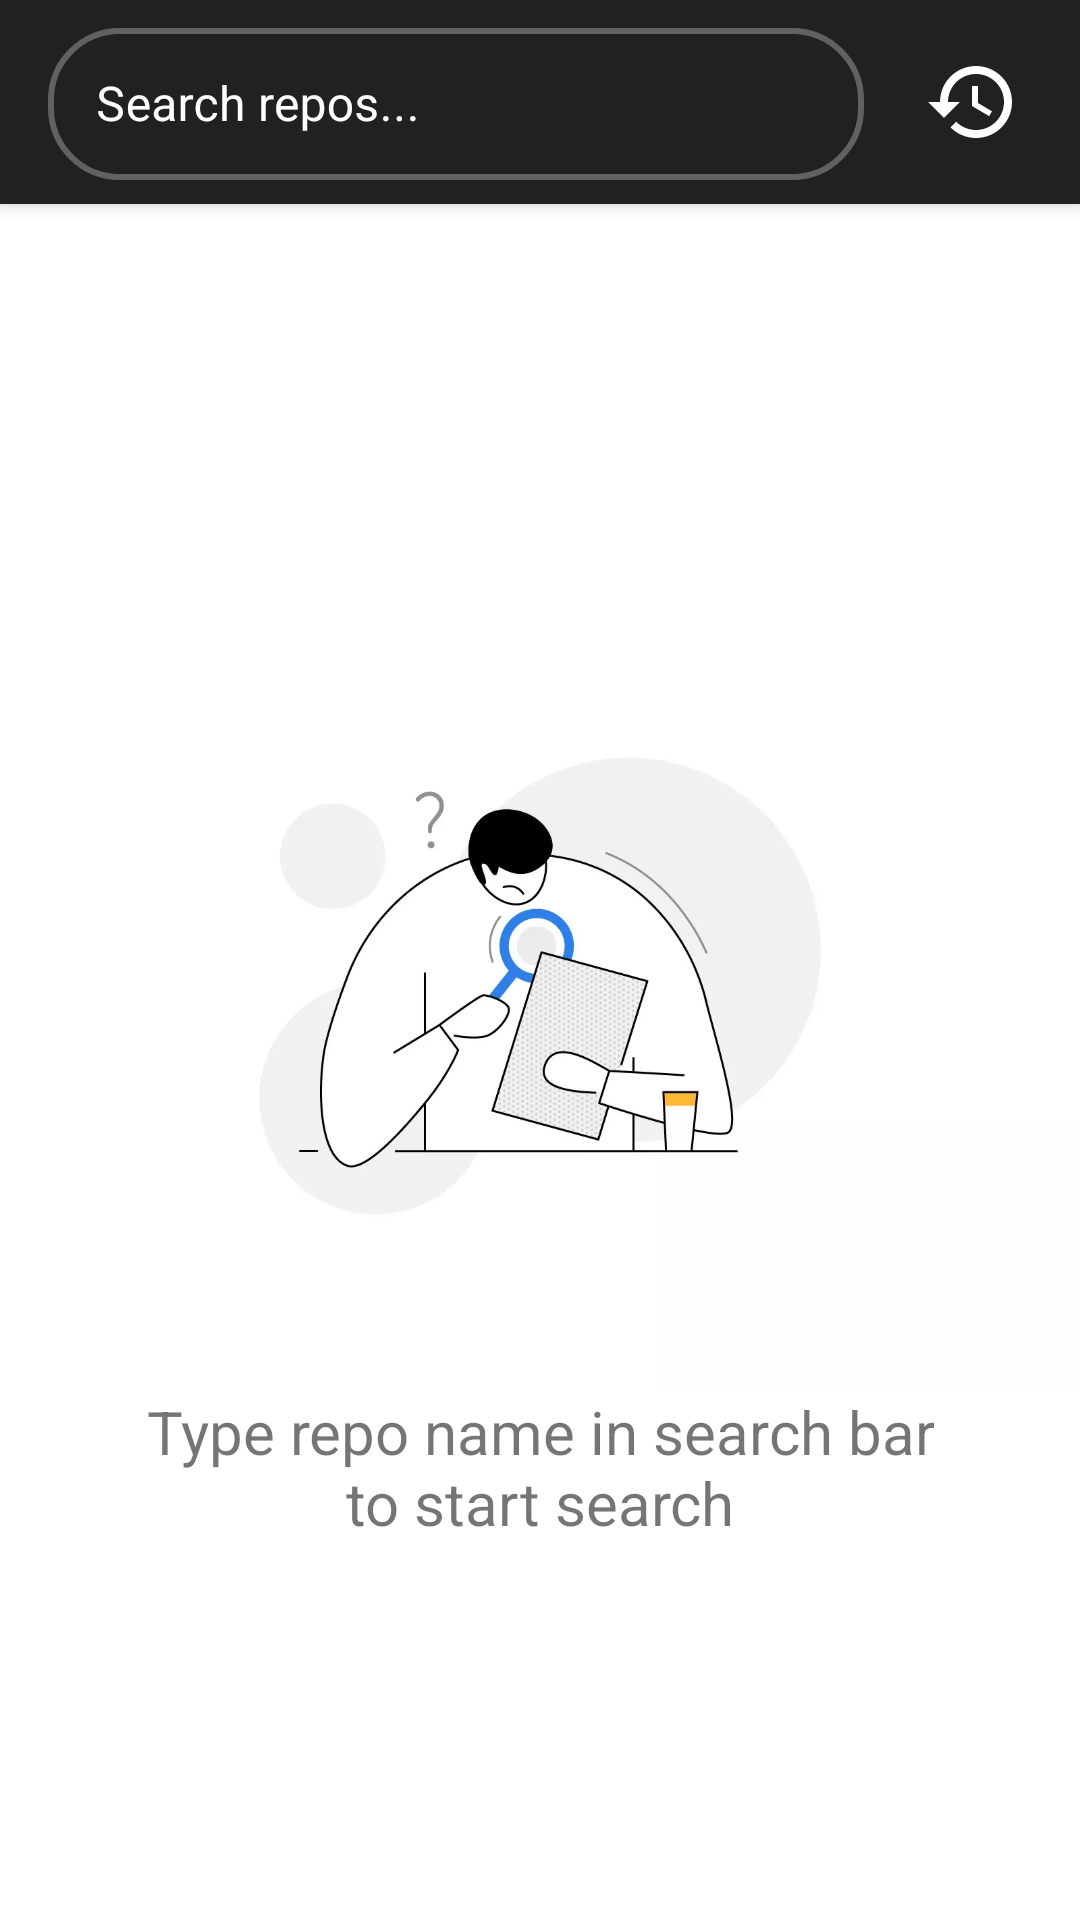

Screen size 1080px×1920px. Icon name, then its center in pixels as (x,y):
history: (970,102)
